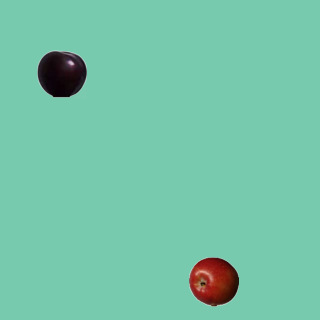Apple Braeburn: (188, 256, 238, 306)
Cherry Wax Black: (36, 48, 86, 98)
